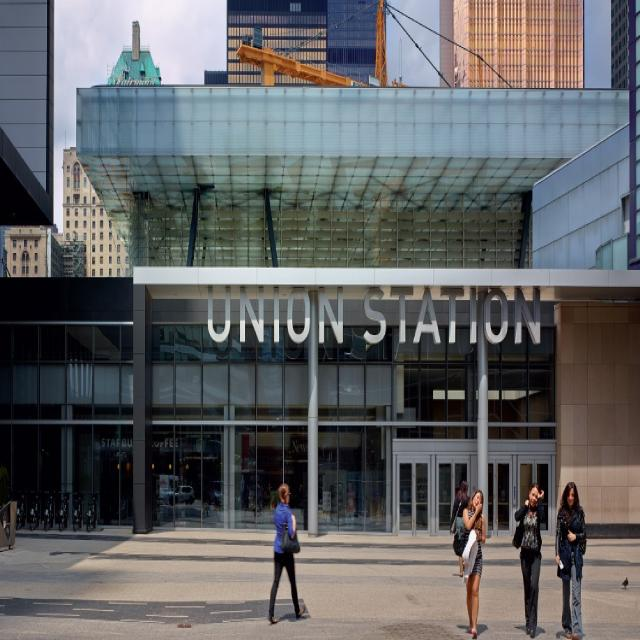body: (266, 481, 308, 627), (510, 479, 546, 638), (451, 488, 487, 639), (554, 479, 588, 638), (449, 478, 471, 578)
